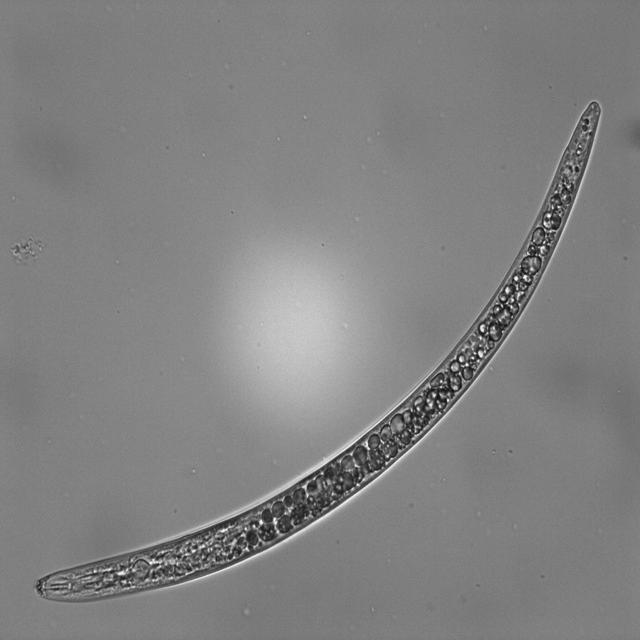Pratylenchus: (33, 93, 601, 604)
